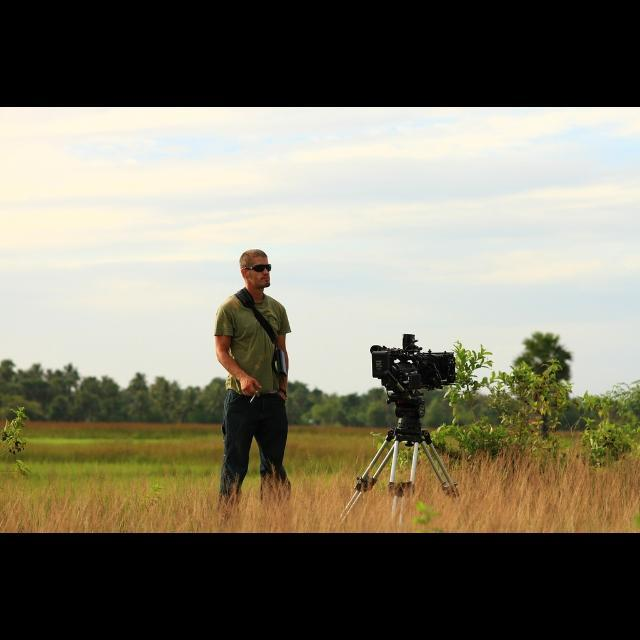rokok: (250, 391, 260, 404)
